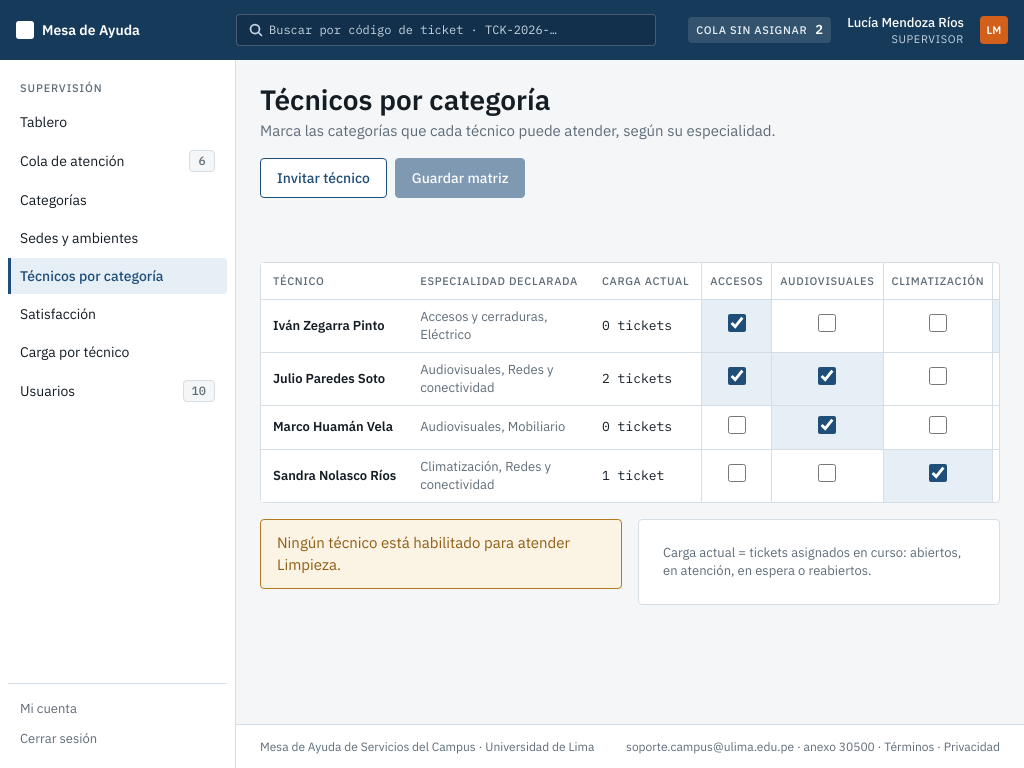
Test: InvitarTecnicoButton › si el servicio falla lo notifica y conserva los datos para reintentar
Expected: the table named "Categorías habilitadas por técnico" is shown, [261, 263, 999, 502]
Expected: the text "Cola sin asignar" is shown, [696, 22, 807, 38]
Click the button "Invitar técnico": click(323, 178) [260, 158, 387, 198]
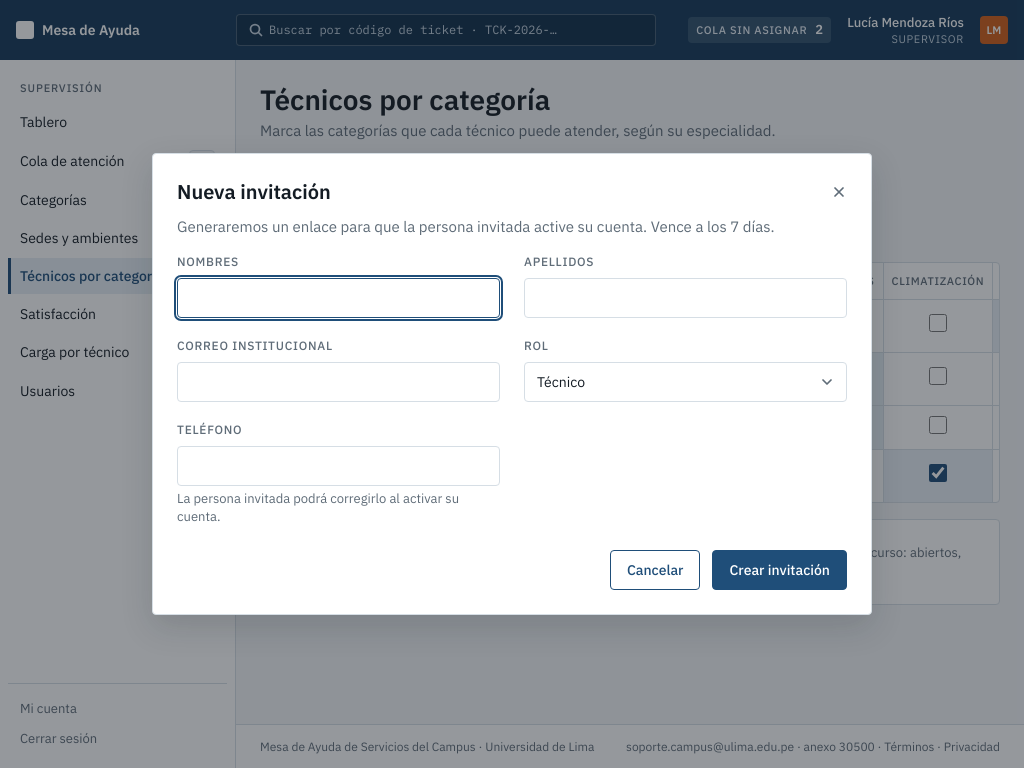
In the field labelled "Nombres": (338, 298) [177, 278, 500, 318], type "Paola Andrea"
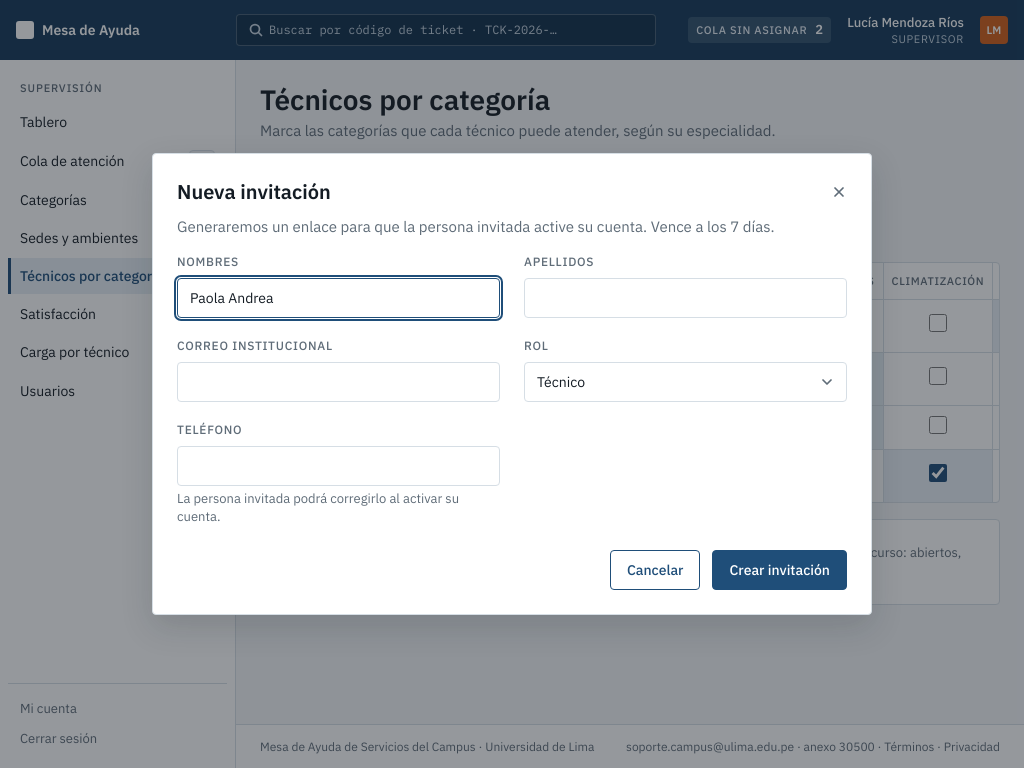
In the field labelled "Apellidos": (686, 298) [524, 278, 847, 318], type "Quiroz Lazo"
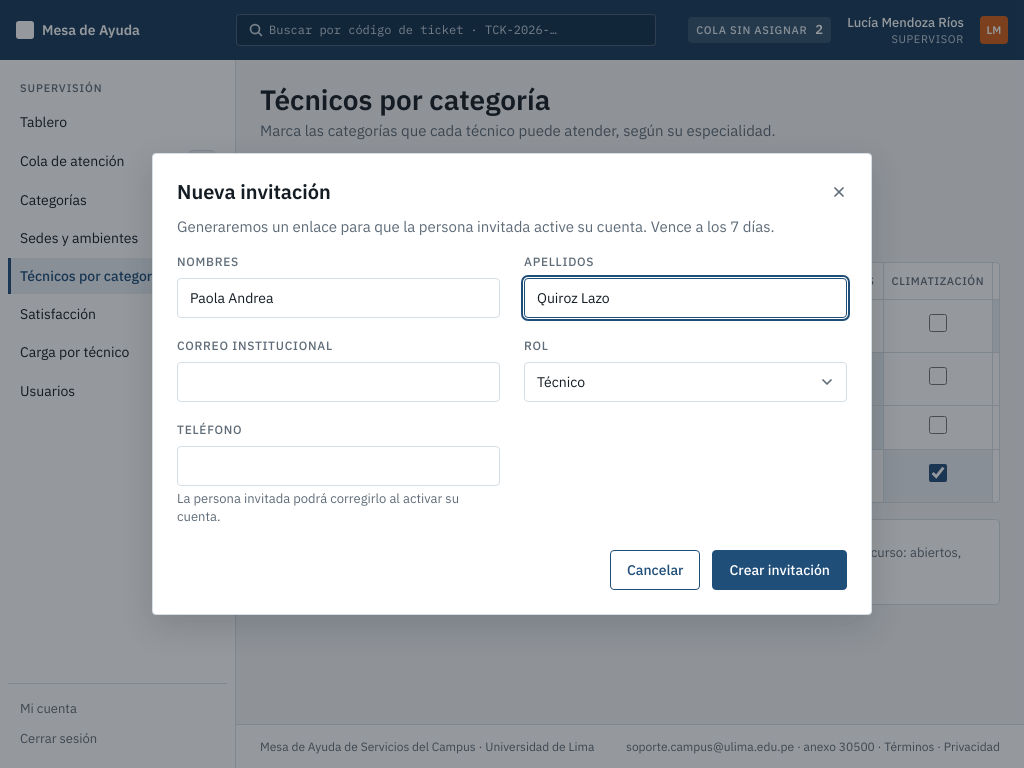
In the field labelled "Correo institucional": (338, 382) [177, 362, 500, 402], type "pquiroz@ulima.edu.pe"
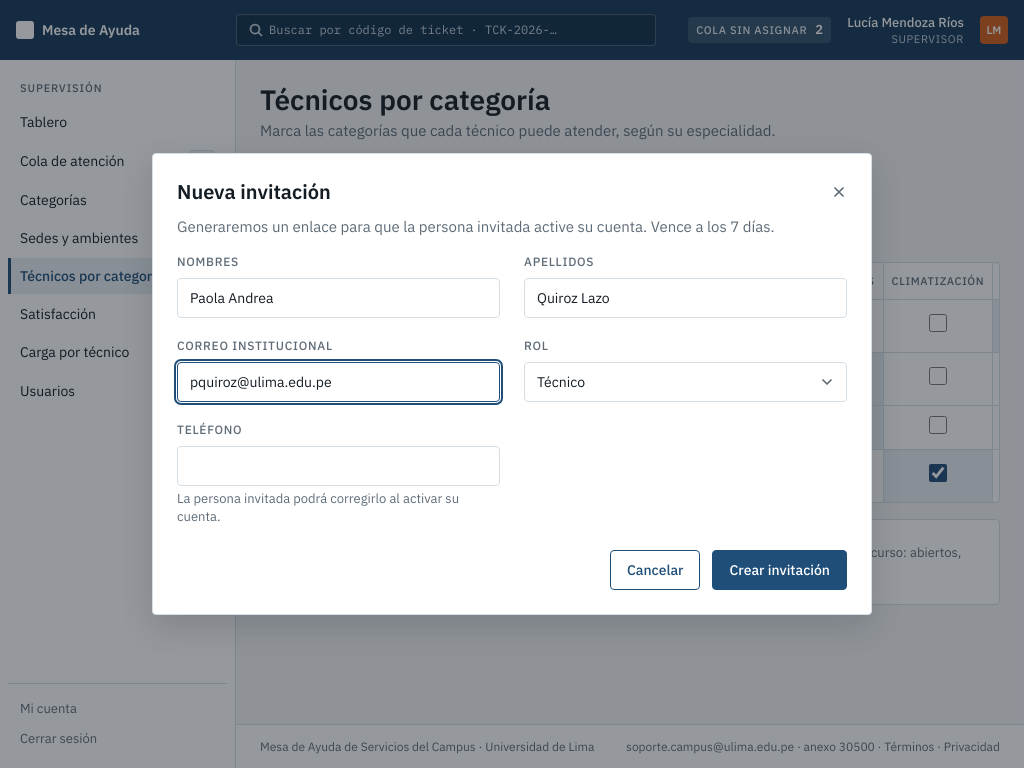
In the field labelled "Teléfono": (338, 466) [177, 446, 500, 486], type "987 111 222"
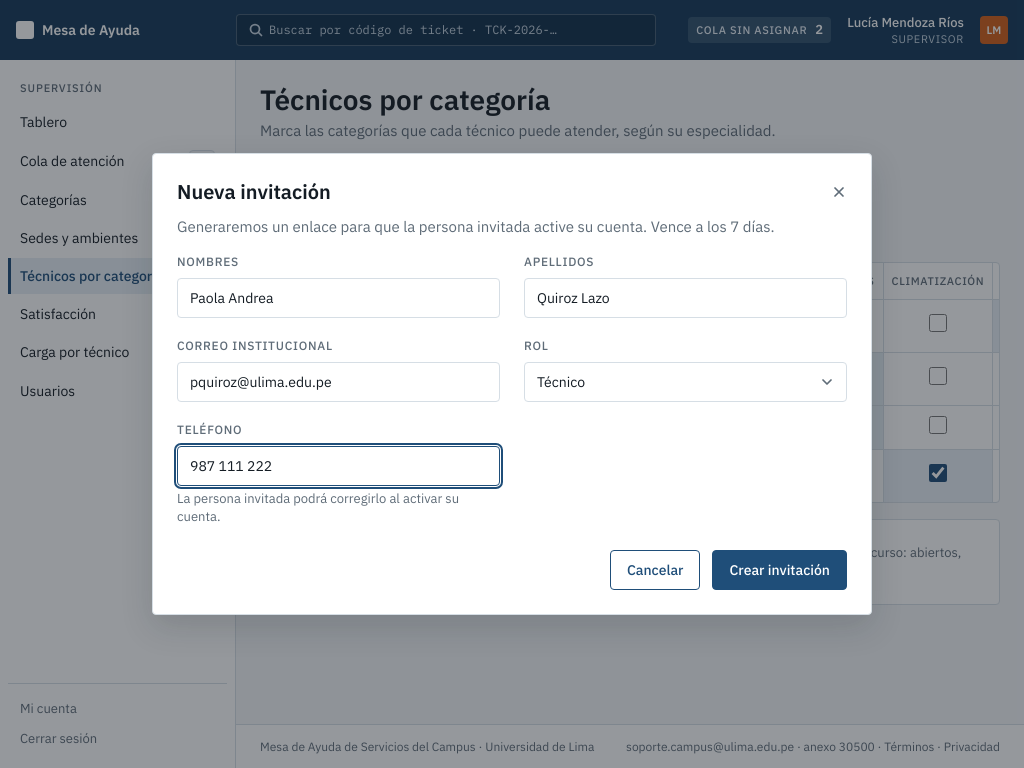
Click the button "Crear invitación": click(780, 570) [712, 550, 847, 590]
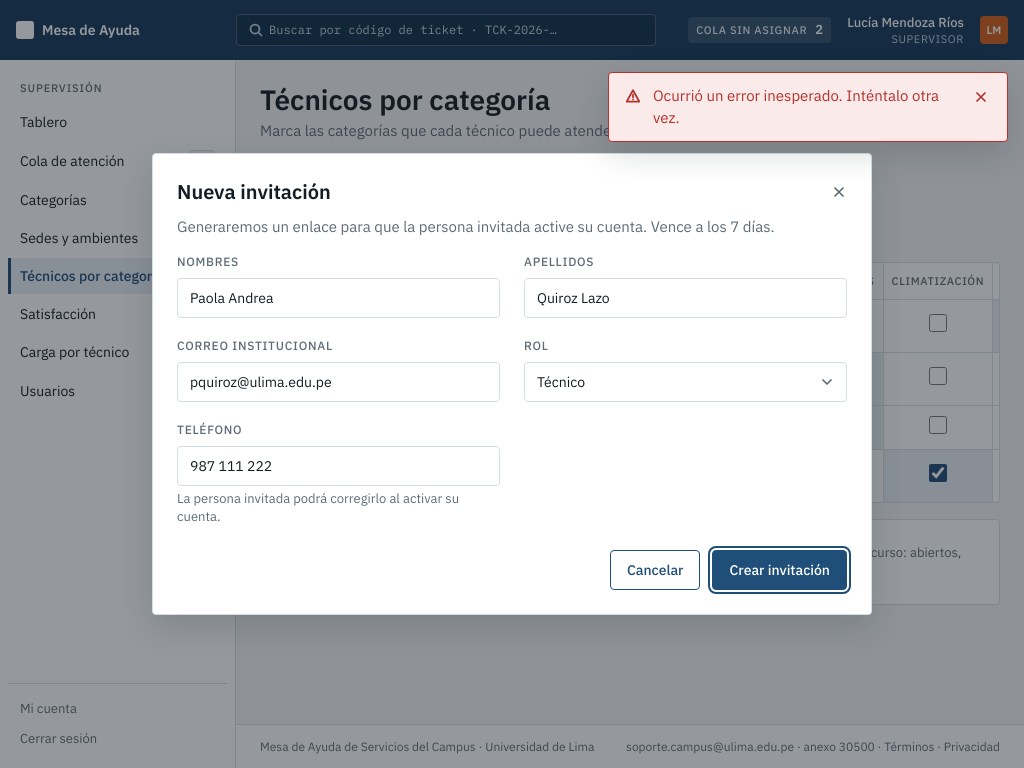
Expected: the dialog "Nueva invitación" is shown, [152, 153, 872, 615]
Expected: the text "Ocurrió un error inesperado. Inténtalo otra vez." is shown, [653, 85, 955, 129]
